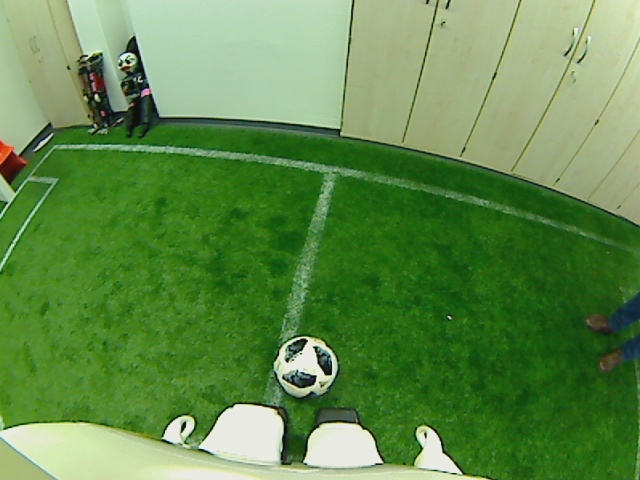ball: (271, 332, 339, 400)
